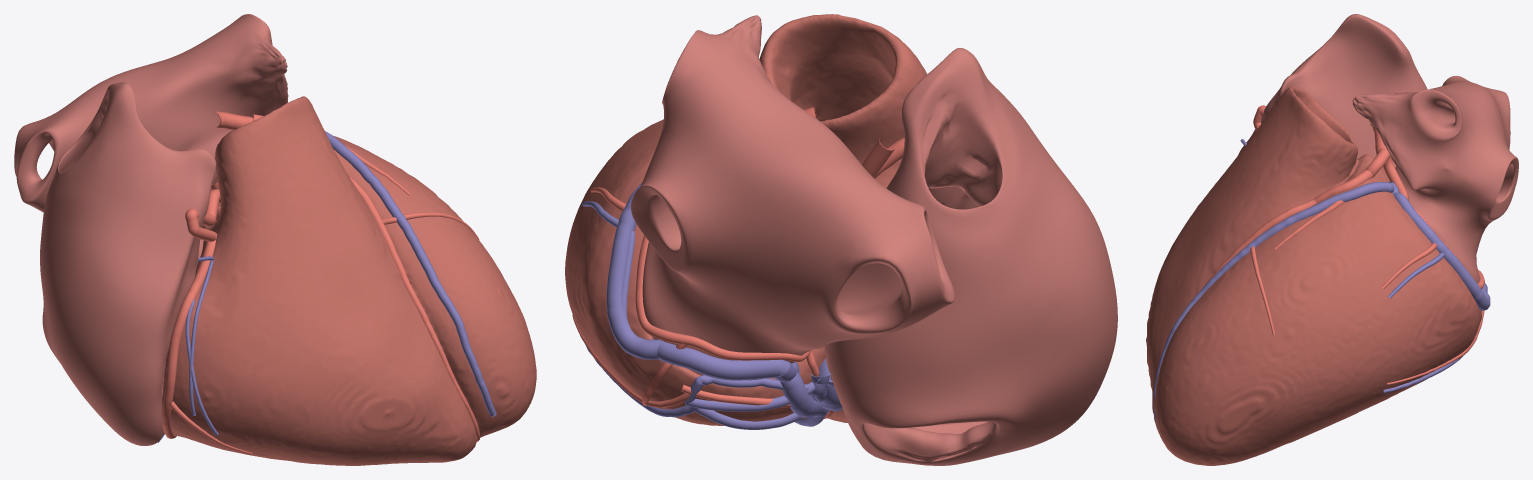
File: heart-hd.glb
3 views of the same model, side by side, from view 1: azimuth 30°, elevation 25°; view 2: azimuth 150°, elevation 25°; view 3: azimuth 270°, elevation 25° (orthographic). The views are drawn at different scales.
Visible parts, largest first — view 1: rv, ra, lv, la, coronary_art, cardiac_veins; view 2: ra, la, rv, lv, cardiac_veins, coronary_art; view 3: lv, rv, la, ra, cardiac_veins, coronary_art.
Boxes of the visible parts, x1,y1,x2,y2 form: rv: (162,96,476,465); ra: (40,82,216,445); lv: (202,136,536,437); la: (14,14,288,212); coronary_art: (162,111,479,454); cardiac_veins: (158,131,496,442); ra: (824,48,1117,465); la: (630,15,954,380); rv: (759,14,926,422); lv: (565,119,825,425); cardiac_veins: (580,183,842,429); coronary_art: (572,106,904,419); lv: (1154,154,1481,465); rv: (1146,86,1357,440); la: (1352,75,1518,283); ra: (1238,14,1427,167); cardiac_veins: (1153,139,1490,421); coronary_art: (1204,105,1484,391).
Bounding box in the file's own units: 1.24 × 1.05 × 1.05.
